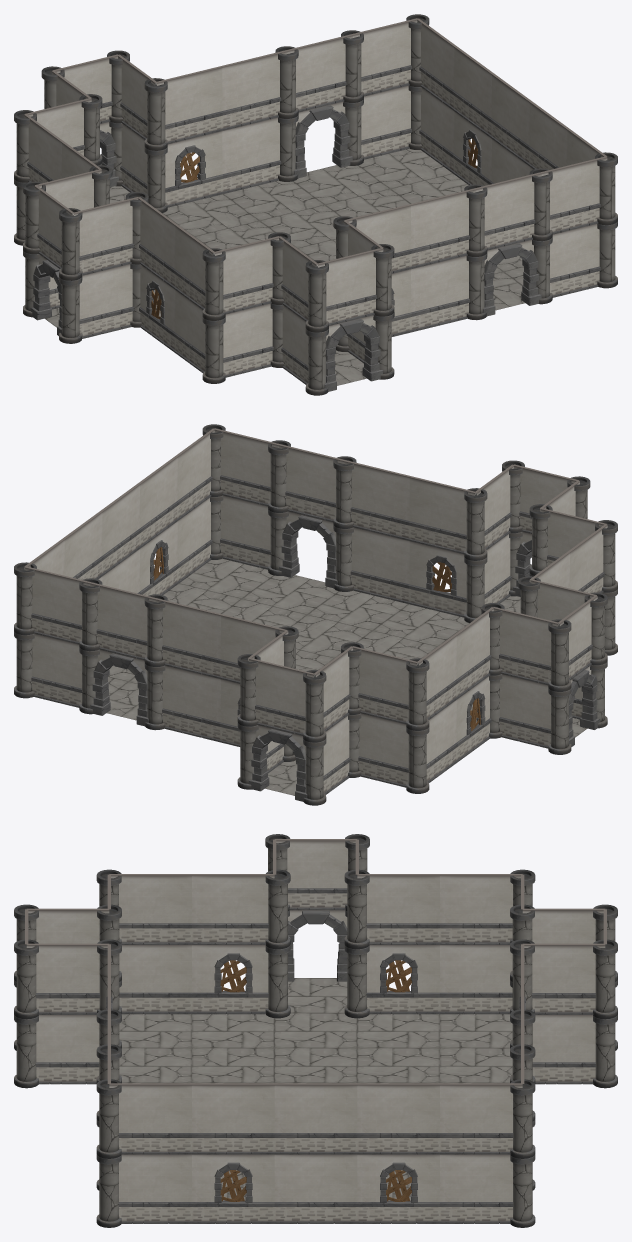
File: SM_bossRoom.fbx
The picture shows the model from 3 angles, top to bottom: view 1: azimuth 30°, elevation 25°; view 2: azimuth 150°, elevation 25°; view 3: azimuth 270°, elevation 25°; orthographic projection. The views are drawn at different scales.
Visible parts, largest first — view 1: SM_wall11 (×2), SM_wall12 (×2), SM_wall17 (×2), SM_wall14 (×2), SM_wall13 (×2), SM_wall10 (×2), SM_wall1 (×2), SM_wall4 (×2), SM_wall25, SM_wallWindow3, SM_wall2 (×2), SM_wall7 (×2) (+56 smaller); view 2: SM_wall12 (×2), SM_wall11 (×2), SM_wall16 (×2), SM_wall15 (×2), SM_wall10 (×2), SM_wall13 (×2), SM_wall3 (×2), SM_wall5 (×2), SM_wall24, SM_wallWindow4, SM_wall2 (×2), SM_wall6 (×2) (+56 smaller); view 3: SM_wall2 (×2), SM_wall3 (×2), SM_wall1 (×2), SM_wall4 (×2), SM_wall5 (×2), SM_wall9 (×2), SM_wall8 (×2), SM_wall20, SM_wall21, SM_wallWindow7, SM_wallWindow8, SM_wall18 (+38 smaller).
Boxes of the visible parts, left/top/right/bottom form: SM_wall11 (×2): left=221, top=50, right=287, bottom=193; SM_wall12 (×2): left=410, top=188, right=476, bottom=332; SM_wall17 (×2): left=72, top=197, right=138, bottom=338; SM_wall14 (×2): left=213, top=236, right=279, bottom=377; SM_wall13 (×2): left=541, top=156, right=607, bottom=297; SM_wall10 (×2): left=352, top=18, right=417, bottom=159; SM_wall1 (×2): left=417, top=18, right=455, bottom=173; SM_wall4 (×2): left=174, top=224, right=214, bottom=372; SM_wall25: left=155, top=66, right=222, bottom=144; SM_wallWindow3: left=165, top=131, right=222, bottom=207; SM_wall2 (×2): left=490, top=73, right=531, bottom=184; SM_wall7 (×2): left=279, top=236, right=317, bottom=384; SM_wall12 (×2): left=344, top=460, right=410, bottom=603; SM_wall11 (×2): left=155, top=598, right=221, bottom=742; SM_wall16 (×2): left=493, top=607, right=559, bottom=748; SM_wall15 (×2): left=352, top=646, right=418, bottom=787; SM_wall10 (×2): left=24, top=566, right=90, bottom=707; SM_wall13 (×2): left=214, top=428, right=279, bottom=569; SM_wall3 (×2): left=176, top=428, right=214, bottom=583; SM_wall5 (×2): left=417, top=634, right=457, bottom=782; SM_wall24: left=409, top=476, right=476, bottom=554; SM_wallWindow4: left=409, top=541, right=466, bottom=617; SM_wall2 (×2): left=100, top=483, right=141, bottom=594; SM_wall6 (×2): left=314, top=646, right=352, bottom=794; SM_wall2 (×2): left=274, top=1083, right=357, bottom=1223; SM_wall3 (×2): left=109, top=1083, right=191, bottom=1223; SM_wall1 (×2): left=440, top=1083, right=522, bottom=1223; SM_wall4 (×2): left=109, top=874, right=191, bottom=1014; SM_wall5 (×2): left=440, top=874, right=522, bottom=1014; SM_wall9 (×2): left=522, top=943, right=605, bottom=1084; SM_wall8 (×2): left=26, top=943, right=109, bottom=1084; SM_wall20: left=357, top=1083, right=439, bottom=1154; SM_wall21: left=192, top=1083, right=274, bottom=1154; SM_wallWindow7: left=192, top=1154, right=274, bottom=1223; SM_wallWindow8: left=357, top=1154, right=439, bottom=1223; SM_wall18: left=192, top=874, right=274, bottom=944.
Bounding box in the file's own units: 44.28 × 11.18 × 44.17.
